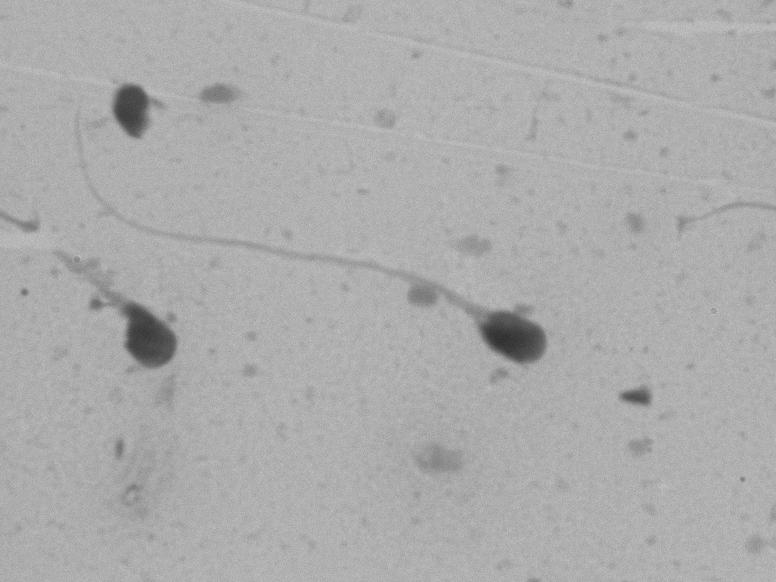Abnormal: (228, 149, 556, 383), (38, 235, 199, 386)
